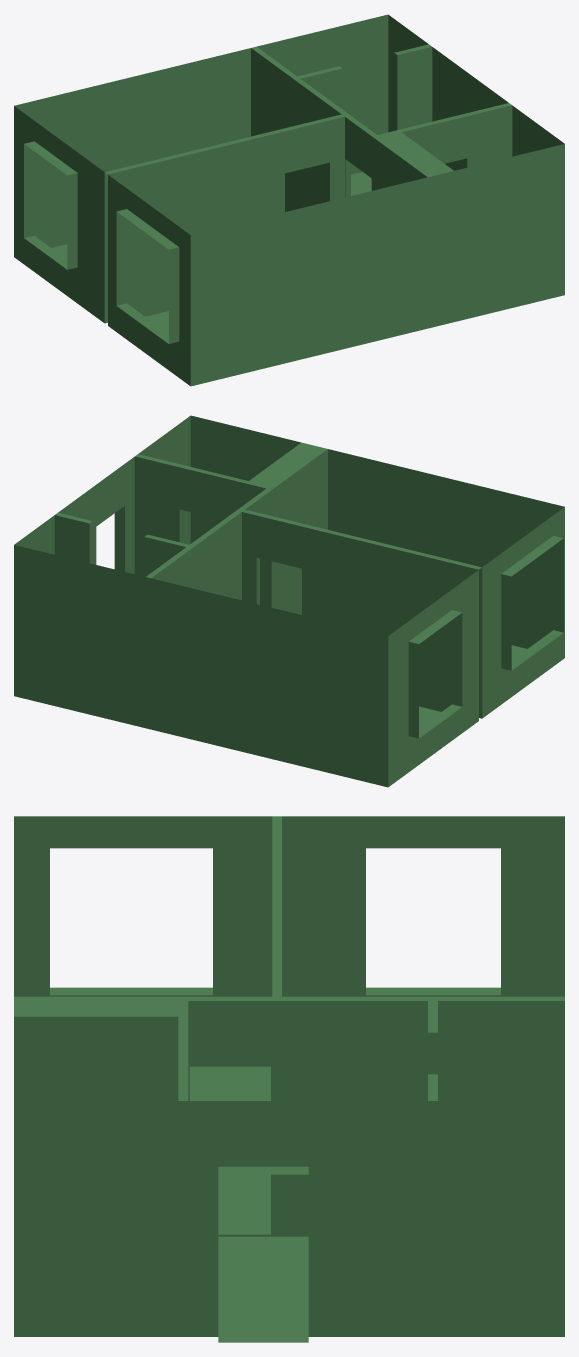
File: Rooms_A_2_2_14.FBX
3 views of the same model, one above another, from view 1: azimuth 30°, elevation 25°; view 2: azimuth 150°, elevation 25°; view 3: azimuth 270°, elevation 25° (orthographic). The views are drawn at different scales.
Parts seen in each view (by area): view 1: Rooms_A_2_2_14; view 2: Rooms_A_2_2_14; view 3: Rooms_A_2_2_14.
Boxes of the visible parts, <box> form: Rooms_A_2_2_14: <box>14,14,564,386</box>; Rooms_A_2_2_14: <box>14,415,564,787</box>; Rooms_A_2_2_14: <box>14,816,564,1342</box>.
Bounding box in the file's own units: 7.65 × 2.8 × 5.93.
